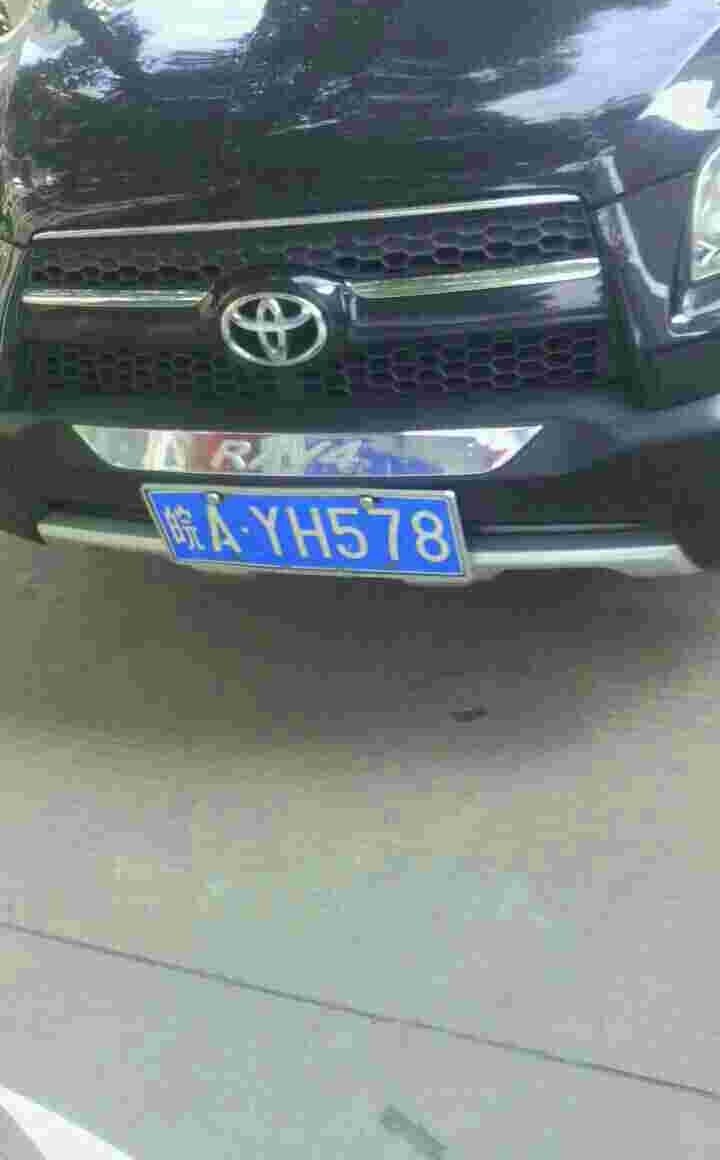car: (140, 492, 469, 580)
